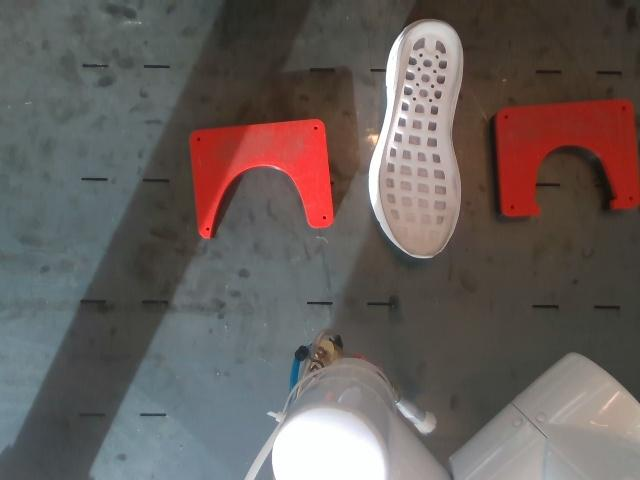shoes: (378, 22, 462, 258)
